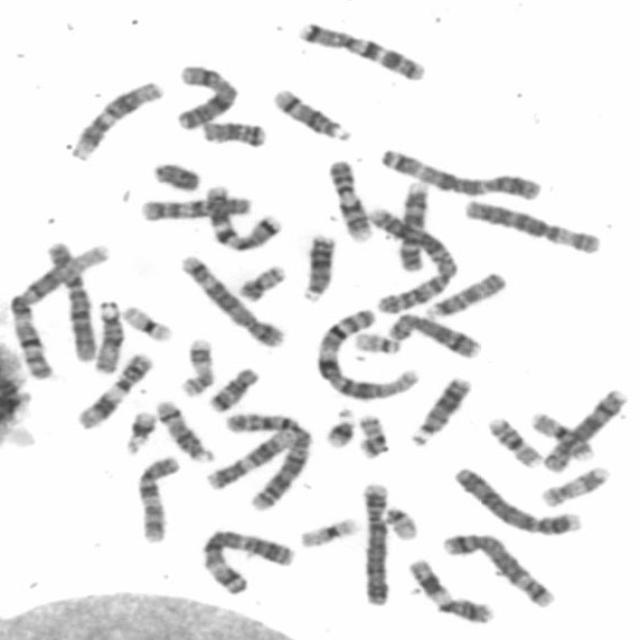A1: (7, 238, 112, 382), (312, 305, 422, 403)
A2: (364, 205, 458, 316), (220, 408, 314, 514)
A3: (375, 144, 545, 202), (197, 526, 296, 596)
B4: (451, 464, 582, 536), (357, 480, 390, 606)
B5: (178, 250, 285, 349), (438, 527, 557, 609)
C10: (130, 452, 182, 546), (138, 192, 252, 223)
C11: (72, 350, 156, 430), (402, 556, 496, 626)
C12: (66, 76, 167, 163), (200, 425, 298, 496)
C6: (459, 195, 603, 255), (42, 242, 98, 362)
C7: (293, 18, 428, 83), (201, 181, 282, 253)
C8: (539, 385, 629, 474), (383, 310, 482, 360)
C9: (324, 156, 372, 242), (393, 179, 432, 274)
D13: (406, 374, 473, 446), (296, 230, 338, 302)
D14: (266, 85, 352, 144), (152, 396, 215, 464)
D15: (422, 268, 509, 320), (91, 297, 125, 373)
E16: (527, 408, 595, 462), (484, 412, 542, 468)
E17: (536, 463, 613, 509), (176, 335, 217, 398)
E18: (203, 364, 260, 413), (197, 116, 268, 150)
F19: (294, 514, 360, 549), (120, 302, 174, 343)
F20: (234, 261, 287, 302), (354, 409, 391, 460)
G21: (122, 407, 158, 455), (322, 405, 356, 449)
G22: (380, 504, 421, 542), (350, 329, 403, 356)
X: (171, 61, 241, 130)
Y: (150, 160, 202, 192)
